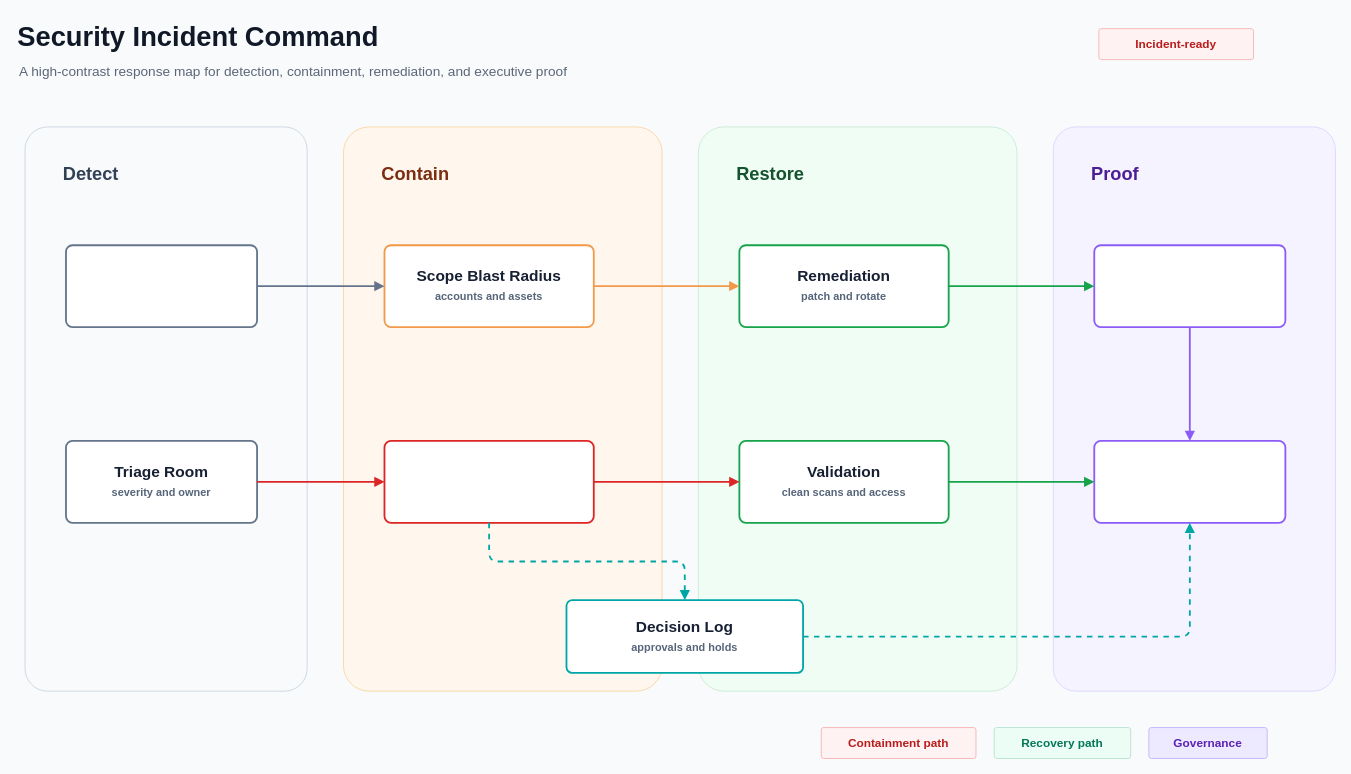
Image size: 1351x774. Some labels were removed from this diagram. The centre of each missing label's shape, as x and y in pixels:
Containment tokens, hosts, routes: (x=488, y=481)
Executive Brief impact and next steps: (x=1189, y=481)
Sensor Grid endpoint, cloud, identity: (x=161, y=286)
Timeline human-readable record: (x=1189, y=286)
